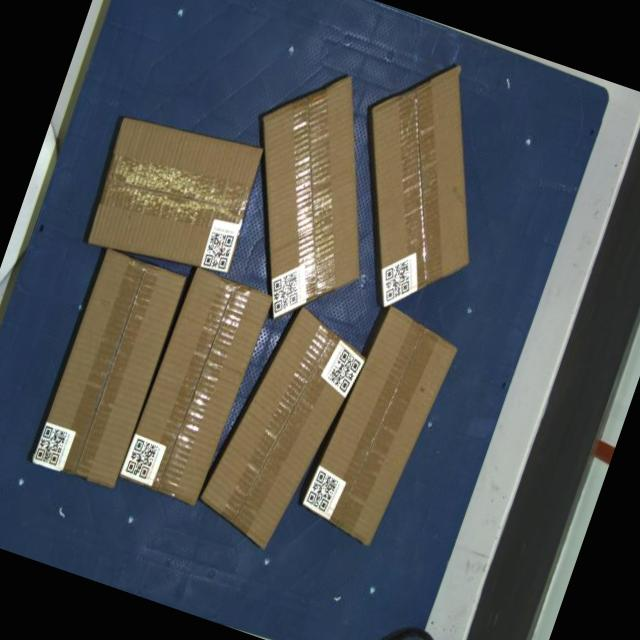box: (200, 52, 420, 342), (312, 43, 528, 330), (190, 295, 376, 561), (296, 299, 464, 552), (116, 265, 274, 507), (32, 247, 187, 489), (80, 103, 270, 290)
